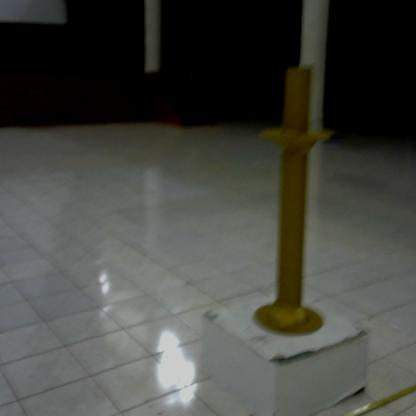pole: (254, 54, 339, 347)
